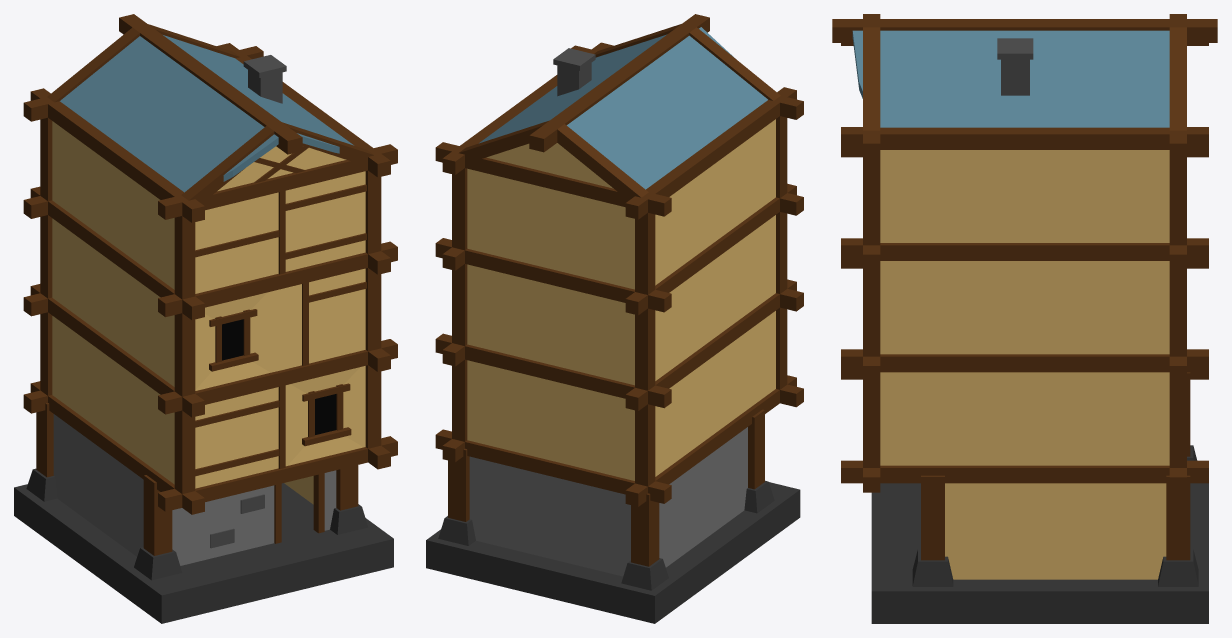
The model's file is MBS_City_Core01_01.fbx.
3 renders of one model, left to right at view 1: azimuth 30°, elevation 25°; view 2: azimuth 150°, elevation 25°; view 3: azimuth 270°, elevation 25°, orthographic. The views are drawn at different scales.
Parts seen in each view (by area): view 1: Cube.838; view 2: Cube.838; view 3: Cube.838.
Part boxes in pixels (bbox=[...]): Cube.838: bbox=[14, 14, 397, 623]; Cube.838: bbox=[426, 14, 803, 623]; Cube.838: bbox=[832, 14, 1217, 623].
Size of the model in its own units: 1000 by 1947 by 1256.
